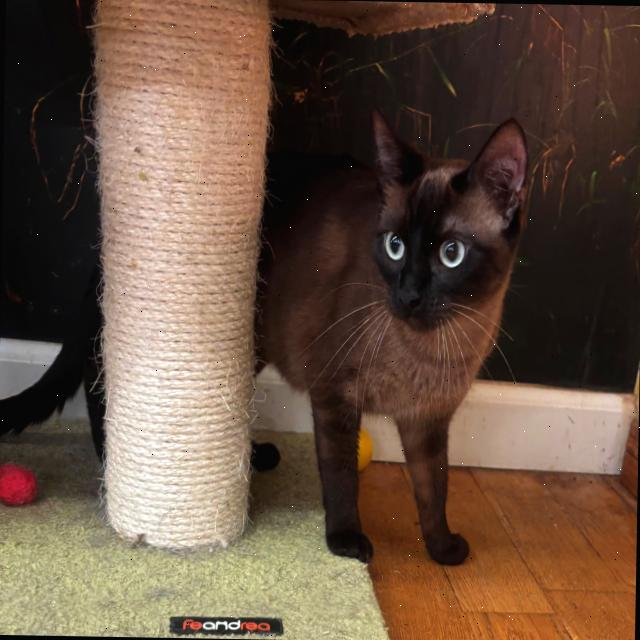siamese_cat: (353, 89, 537, 353)
